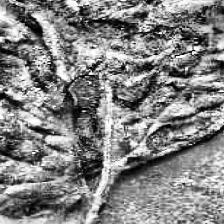disease: (0, 0, 224, 213)
